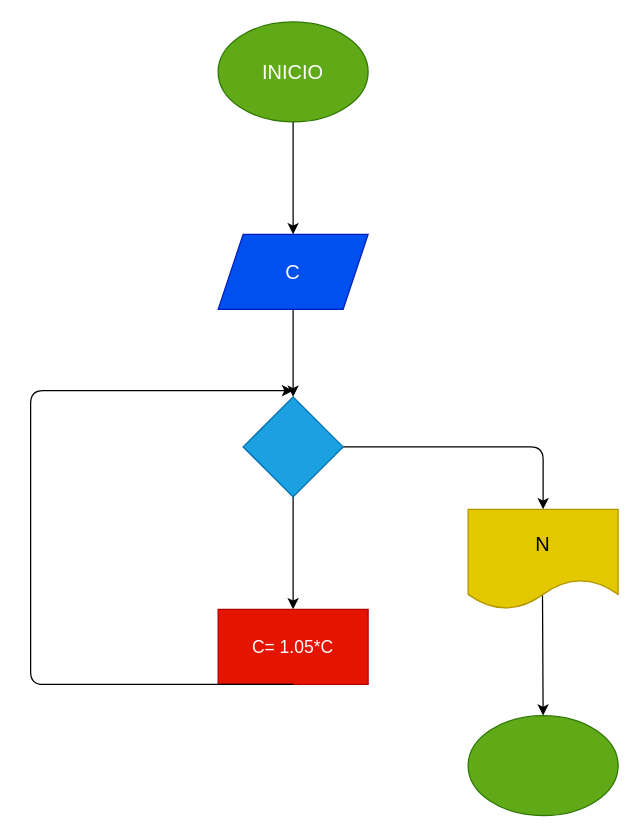
The diagram is 640 pixels wide and 838 high, and some of its shapes have lost their labels. The box of each missing label's shape, as (x1, y1, x2, y2) in pixels:
C<=D: (242, 396, 343, 497)
FIN: (467, 714, 618, 816)
